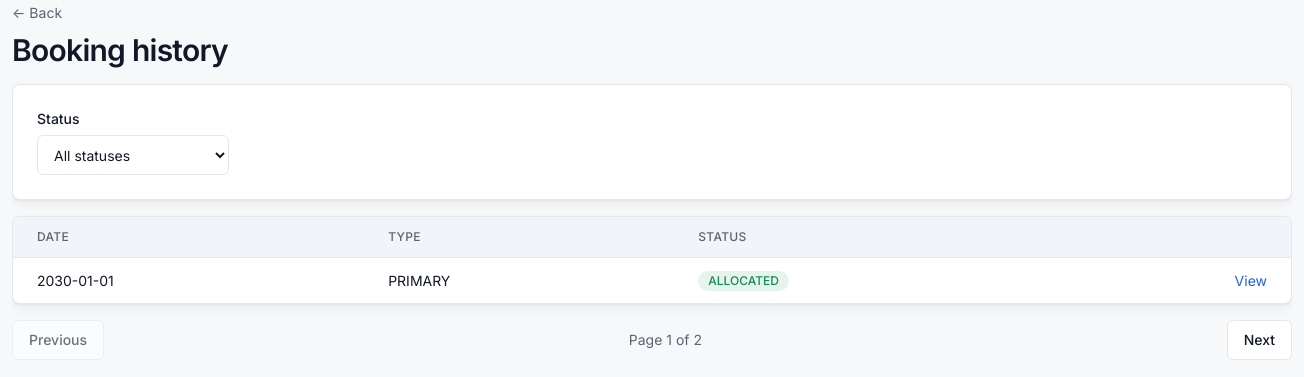
Test case: History › paginates
Expected: the text "2030-01-01" is shown, [13,258,364,303]
Click the button "Next" at (1259, 340), box [1227,320,1292,360]
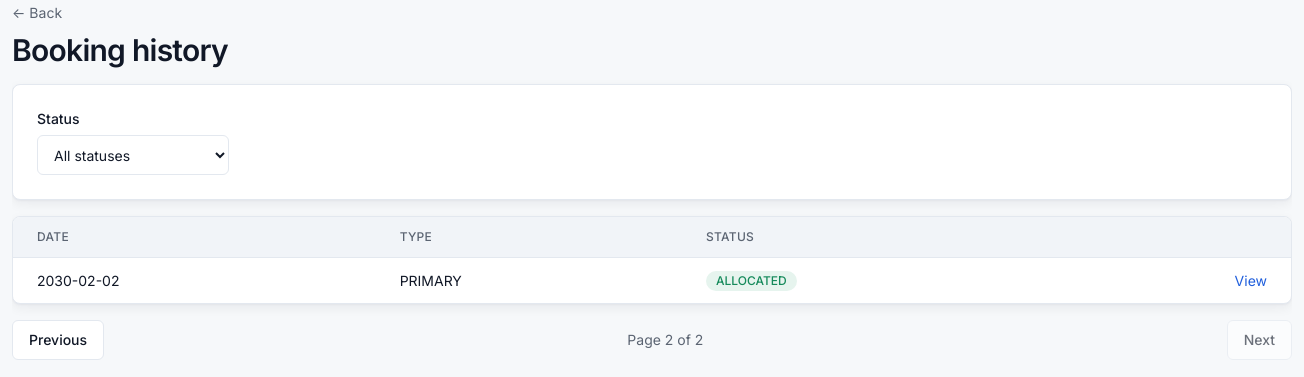
Result: the text "2030-02-02" is shown at [13,258,376,303]
